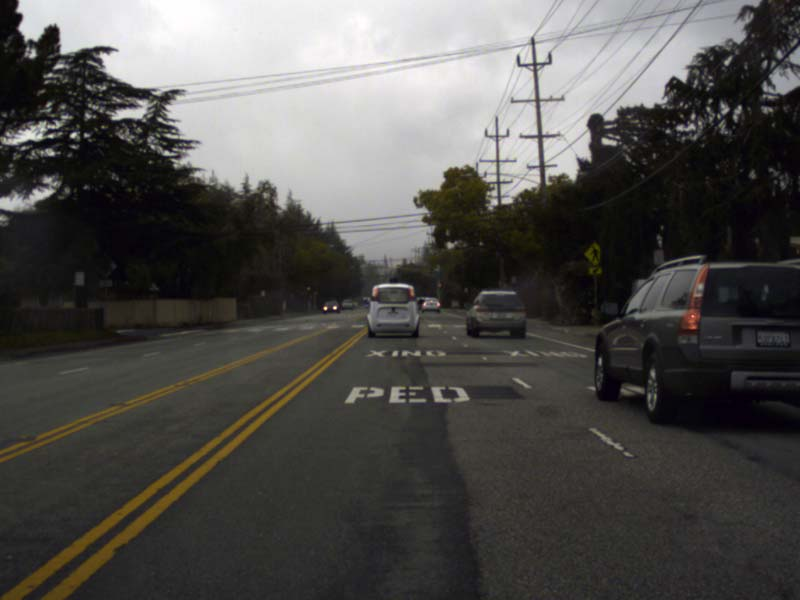Red: (306, 285, 311, 297), (396, 264, 401, 273), (438, 281, 441, 289)
